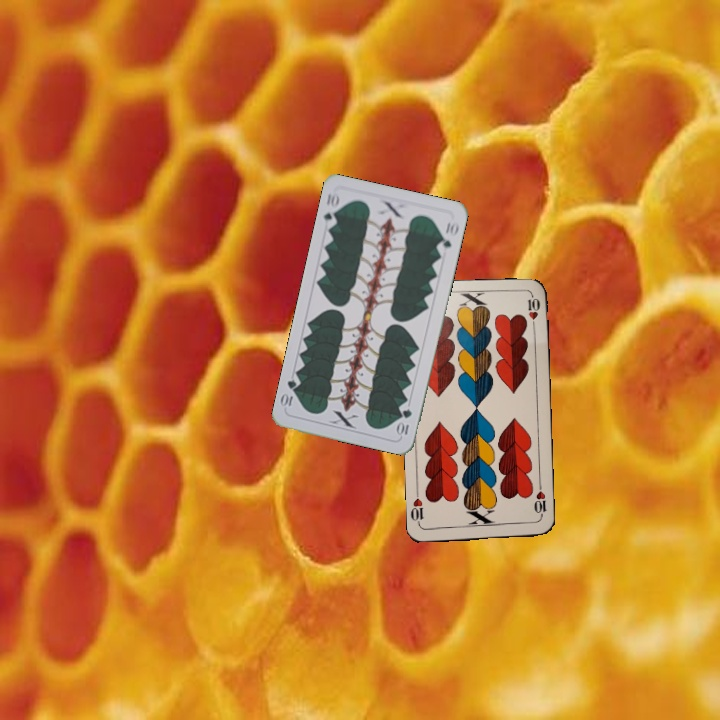G10: (319, 188, 342, 230), (394, 405, 414, 439)
H10: (530, 481, 549, 521)
